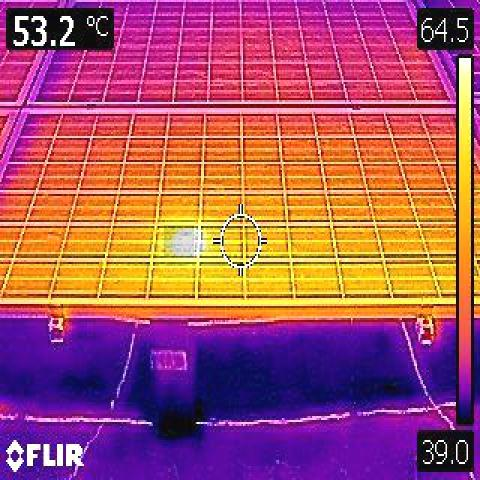fault: (164, 225, 194, 257)
